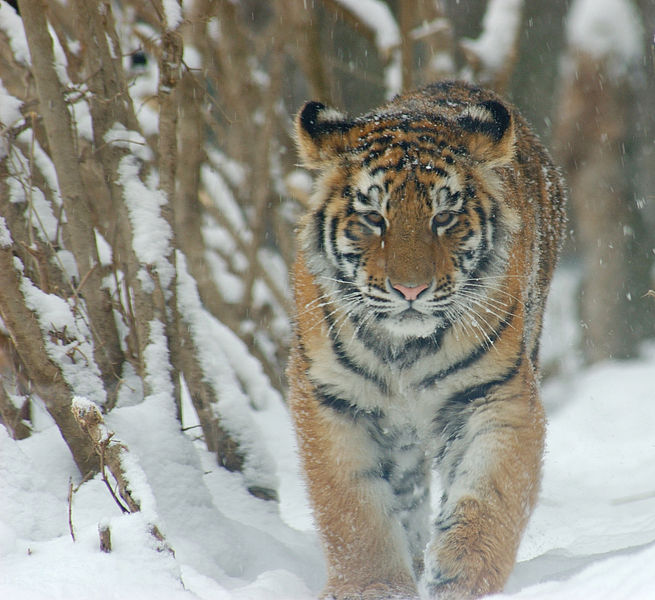Tigre: (227, 71, 614, 494)
